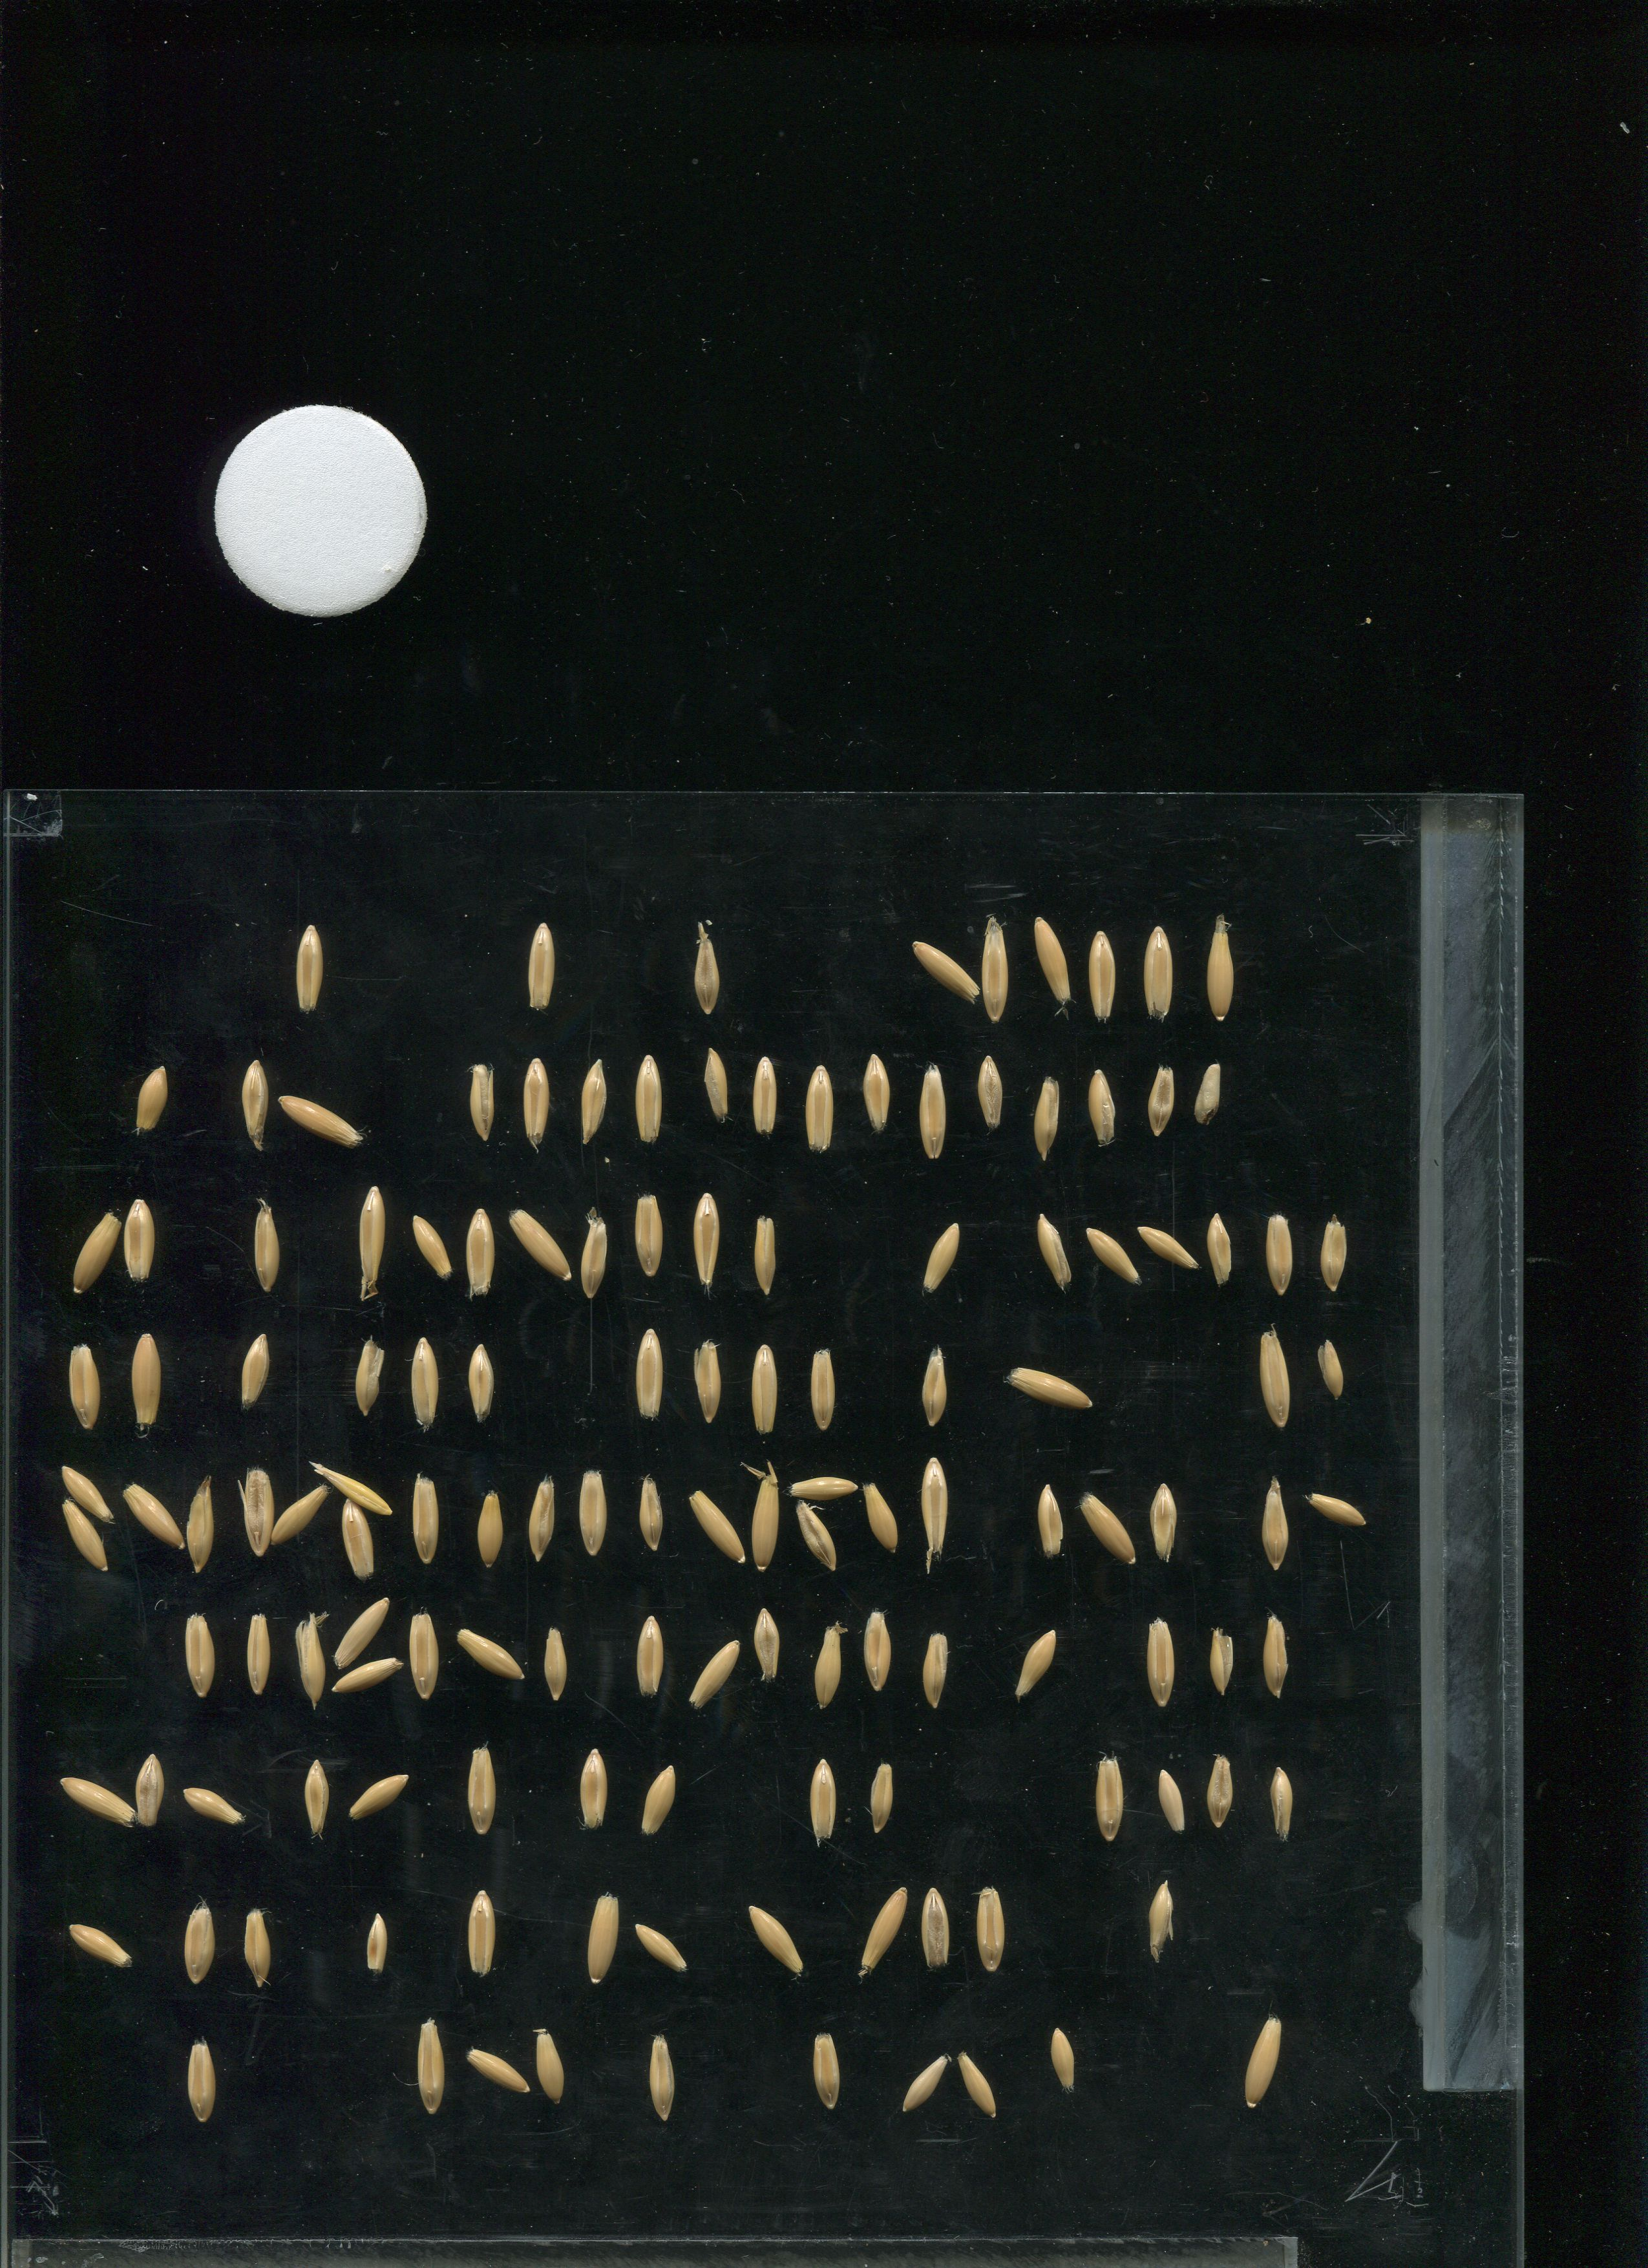BrokenGrain: (1206, 1622, 1238, 1701), (364, 1909, 389, 1979)
NakedGrain: (1203, 1211, 1243, 1291), (644, 2030, 678, 2125), (914, 1349, 953, 1426), (134, 1055, 171, 1136), (634, 1472, 667, 1557), (1146, 1060, 1178, 1145), (1157, 1759, 1188, 1844), (241, 1905, 273, 1990), (1312, 1335, 1350, 1403), (752, 1213, 782, 1300), (1194, 1055, 1224, 1139), (752, 1604, 782, 1689), (810, 2027, 840, 2111), (134, 1747, 164, 1831), (1206, 1750, 1236, 1833)
WholeGrain: (998, 1358, 1099, 1416), (507, 1206, 574, 1289), (683, 1481, 745, 1571), (305, 1460, 396, 1520), (120, 1479, 190, 1557), (275, 1092, 364, 1150), (1078, 1484, 1139, 1567), (56, 1497, 116, 1581), (854, 1884, 907, 1979), (909, 935, 981, 1004), (747, 1904, 808, 1983), (331, 1594, 393, 1671), (1243, 2007, 1289, 2110), (56, 1775, 139, 1831), (264, 1479, 331, 1548), (70, 1208, 120, 1298), (451, 1627, 528, 1683), (1032, 916, 1076, 1014), (1254, 1324, 1292, 1435), (687, 1638, 743, 1712), (60, 1462, 120, 1530), (1085, 1222, 1143, 1291), (917, 1449, 951, 1565), (289, 919, 327, 1018), (1081, 928, 1120, 1027), (1032, 1206, 1074, 1296), (521, 919, 560, 1016), (685, 919, 724, 1016), (1137, 924, 1176, 1021), (748, 1456, 780, 1574), (1259, 1460, 1291, 1578), (1143, 1601, 1174, 1719), (919, 1217, 965, 1298), (803, 1051, 835, 1167), (794, 1497, 842, 1574), (1259, 1601, 1291, 1717), (1141, 1874, 1180, 1969), (864, 1752, 903, 1847), (576, 1740, 614, 1835), (180, 2032, 218, 2127), (461, 1886, 500, 1981), (688, 1187, 722, 1296), (354, 1183, 387, 1292), (690, 1331, 724, 1440), (632, 1321, 666, 1430), (407, 1329, 440, 1439), (129, 1329, 162, 1439), (408, 1465, 442, 1574), (238, 1456, 271, 1565), (183, 1467, 217, 1576), (472, 1474, 505, 1583), (526, 1458, 560, 1567), (574, 1458, 607, 1567), (65, 1921, 134, 1974), (1259, 1206, 1298, 1300), (857, 1602, 896, 1696), (535, 1618, 574, 1712), (236, 1608, 275, 1701), (67, 1335, 100, 1442), (861, 1474, 903, 1558), (1092, 1752, 1129, 1847), (806, 1756, 843, 1851), (917, 1622, 954, 1717), (812, 1615, 849, 1710), (630, 1609, 667, 1705), (405, 1604, 442, 1699), (585, 1891, 622, 1986), (178, 1898, 215, 1993), (641, 1756, 678, 1851), (463, 2046, 532, 2097), (338, 1495, 379, 1581), (979, 910, 1009, 1027), (1206, 909, 1236, 1025), (917, 1049, 947, 1166), (748, 1333, 780, 1442), (465, 1326, 497, 1435), (1315, 1204, 1352, 1298), (1261, 1752, 1298, 1845), (970, 1882, 1007, 1976), (916, 1881, 953, 1974), (291, 1615, 327, 1708), (463, 1742, 500, 1835), (180, 1608, 217, 1701), (412, 2020, 449, 2113), (298, 1752, 335, 1845), (532, 2023, 569, 2117), (1136, 1224, 1201, 1277), (900, 2051, 953, 2117), (954, 2050, 1002, 2122), (465, 1199, 497, 1307), (408, 1210, 454, 1282), (1014, 1627, 1058, 1701), (345, 1771, 408, 1823), (975, 1046, 1007, 1141), (1034, 1072, 1065, 1167), (1086, 1062, 1118, 1157), (701, 1042, 732, 1138), (578, 1049, 609, 1145), (519, 1055, 551, 1150), (238, 1326, 269, 1421), (1301, 1490, 1372, 1532), (632, 1923, 688, 1976), (861, 1046, 893, 1139), (632, 1051, 664, 1145), (806, 1340, 838, 1433), (1148, 1477, 1180, 1571), (180, 1784, 246, 1828), (327, 1655, 407, 1692), (750, 1049, 780, 1145), (467, 1053, 497, 1148), (239, 1055, 269, 1150), (252, 1199, 282, 1294), (123, 1194, 153, 1289), (634, 1187, 664, 1282), (1034, 1474, 1063, 1569), (578, 1208, 607, 1301), (354, 1337, 384, 1430), (787, 1470, 857, 1504), (1048, 2025, 1081, 2094)
